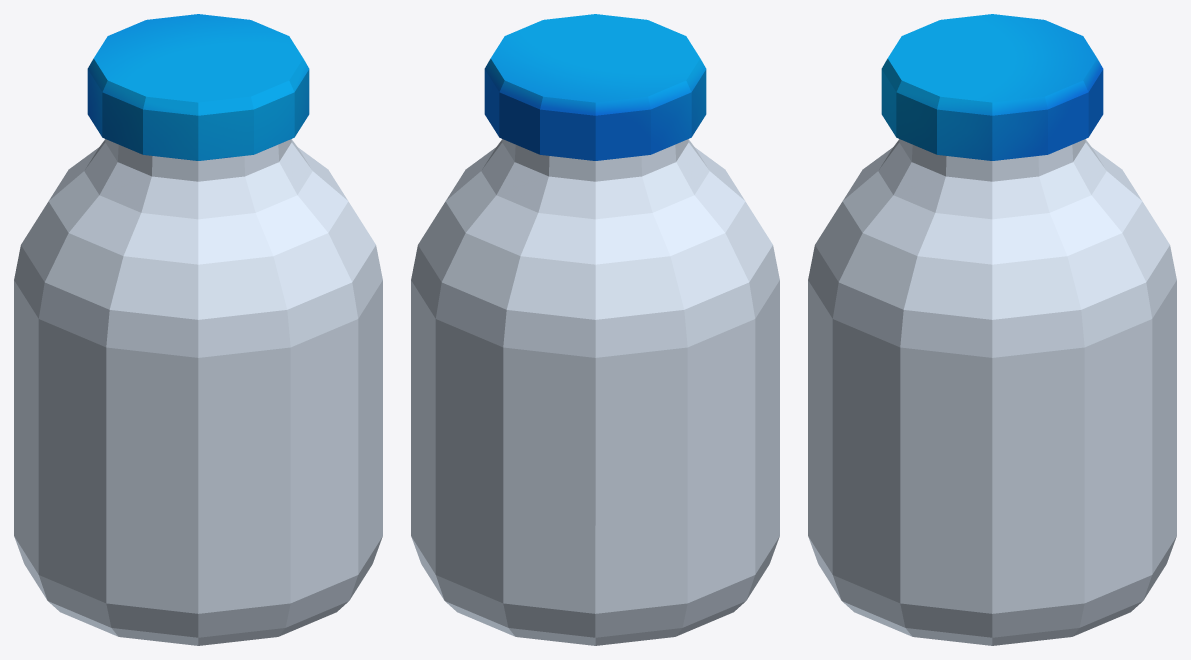
File: Milk.FBX
The picture shows the model from 3 angles, left to right: view 1: azimuth 30°, elevation 25°; view 2: azimuth 150°, elevation 25°; view 3: azimuth 270°, elevation 25°; orthographic projection.
Visible parts, largest first — view 1: Milk; view 2: Milk; view 3: Milk.
Part boxes in pixels (x1=…): Milk: x1=14, y1=14, x2=382, y2=645; Milk: x1=411, y1=14, x2=779, y2=645; Milk: x1=808, y1=14, x2=1176, y2=645.
Bounding box in the file's own units: 18.58 × 28.91 × 18.58.
2 materials, 2 textured.
